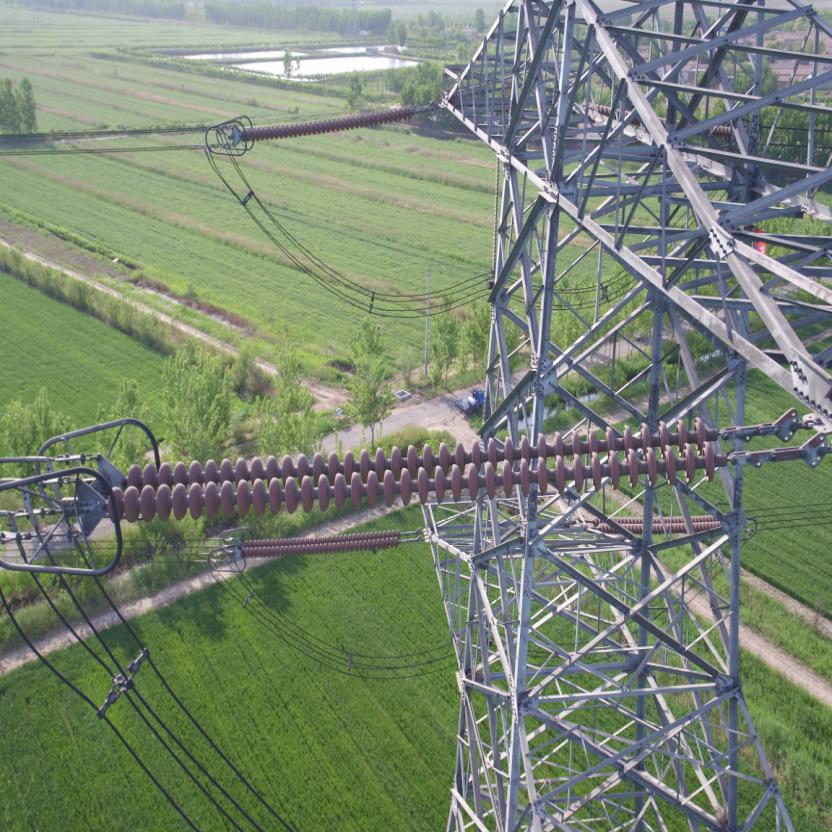insulator: (93, 414, 759, 523), (240, 103, 426, 143)
